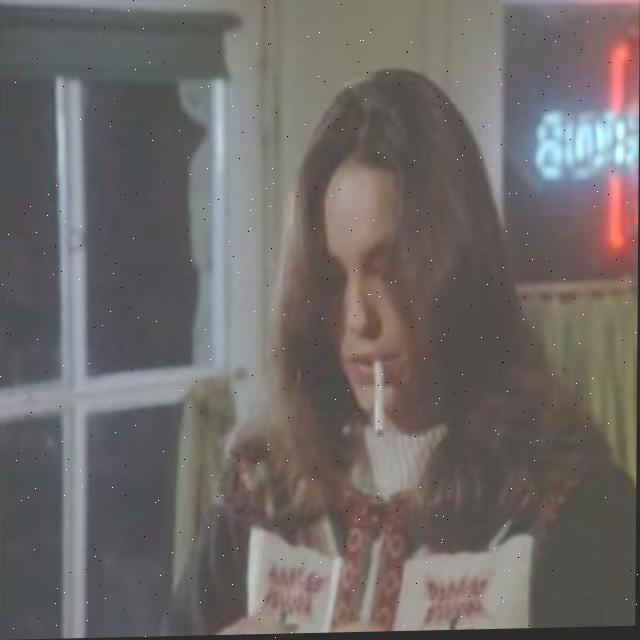cigarette: (373, 358, 388, 439)
